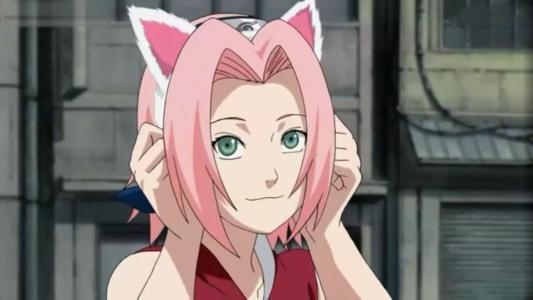sakura: (134, 13, 318, 237)
